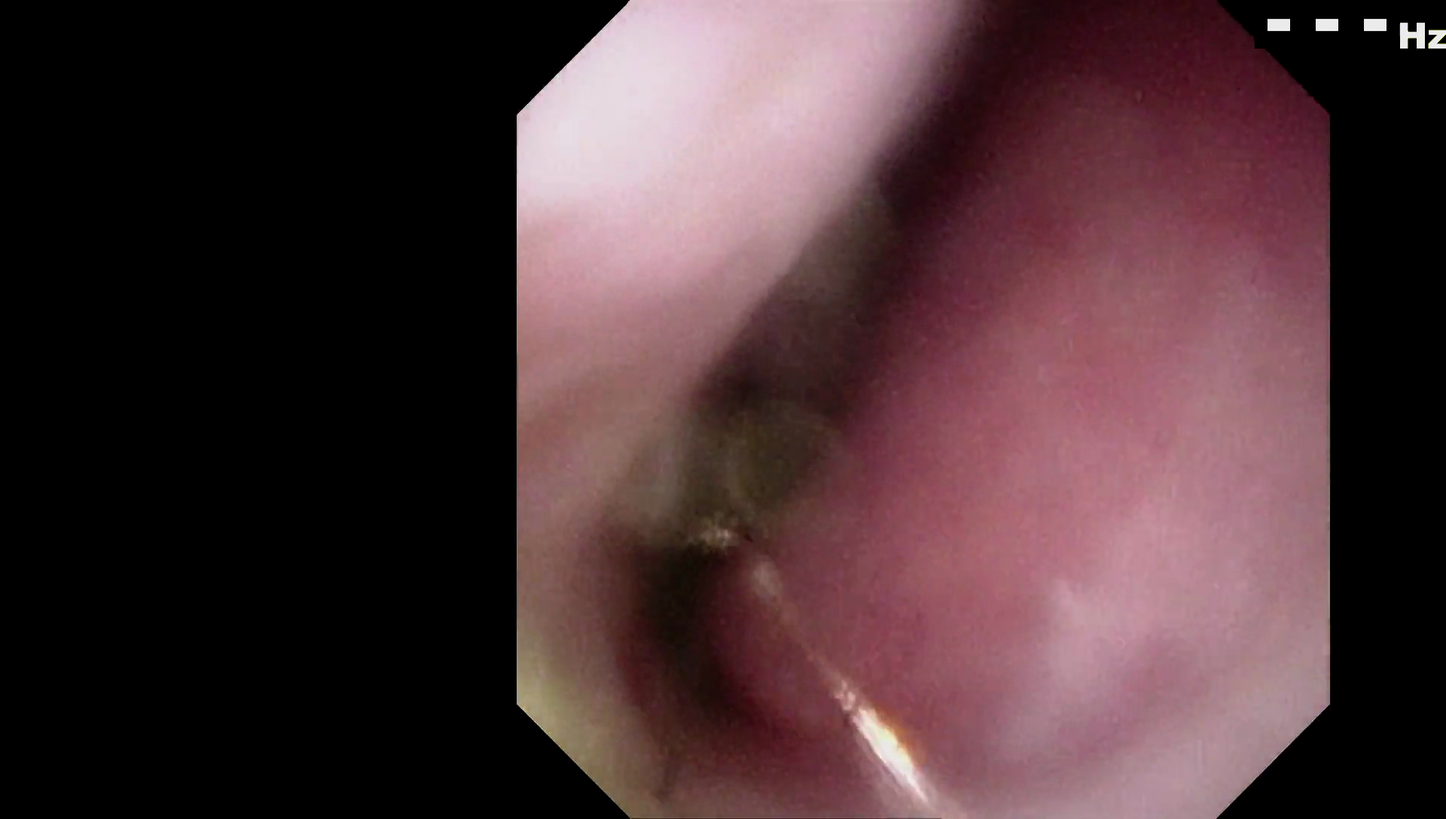close_wall: (941, 483, 1326, 819), (559, 72, 804, 263)
next: (582, 498, 813, 785), (846, 32, 1046, 241)
